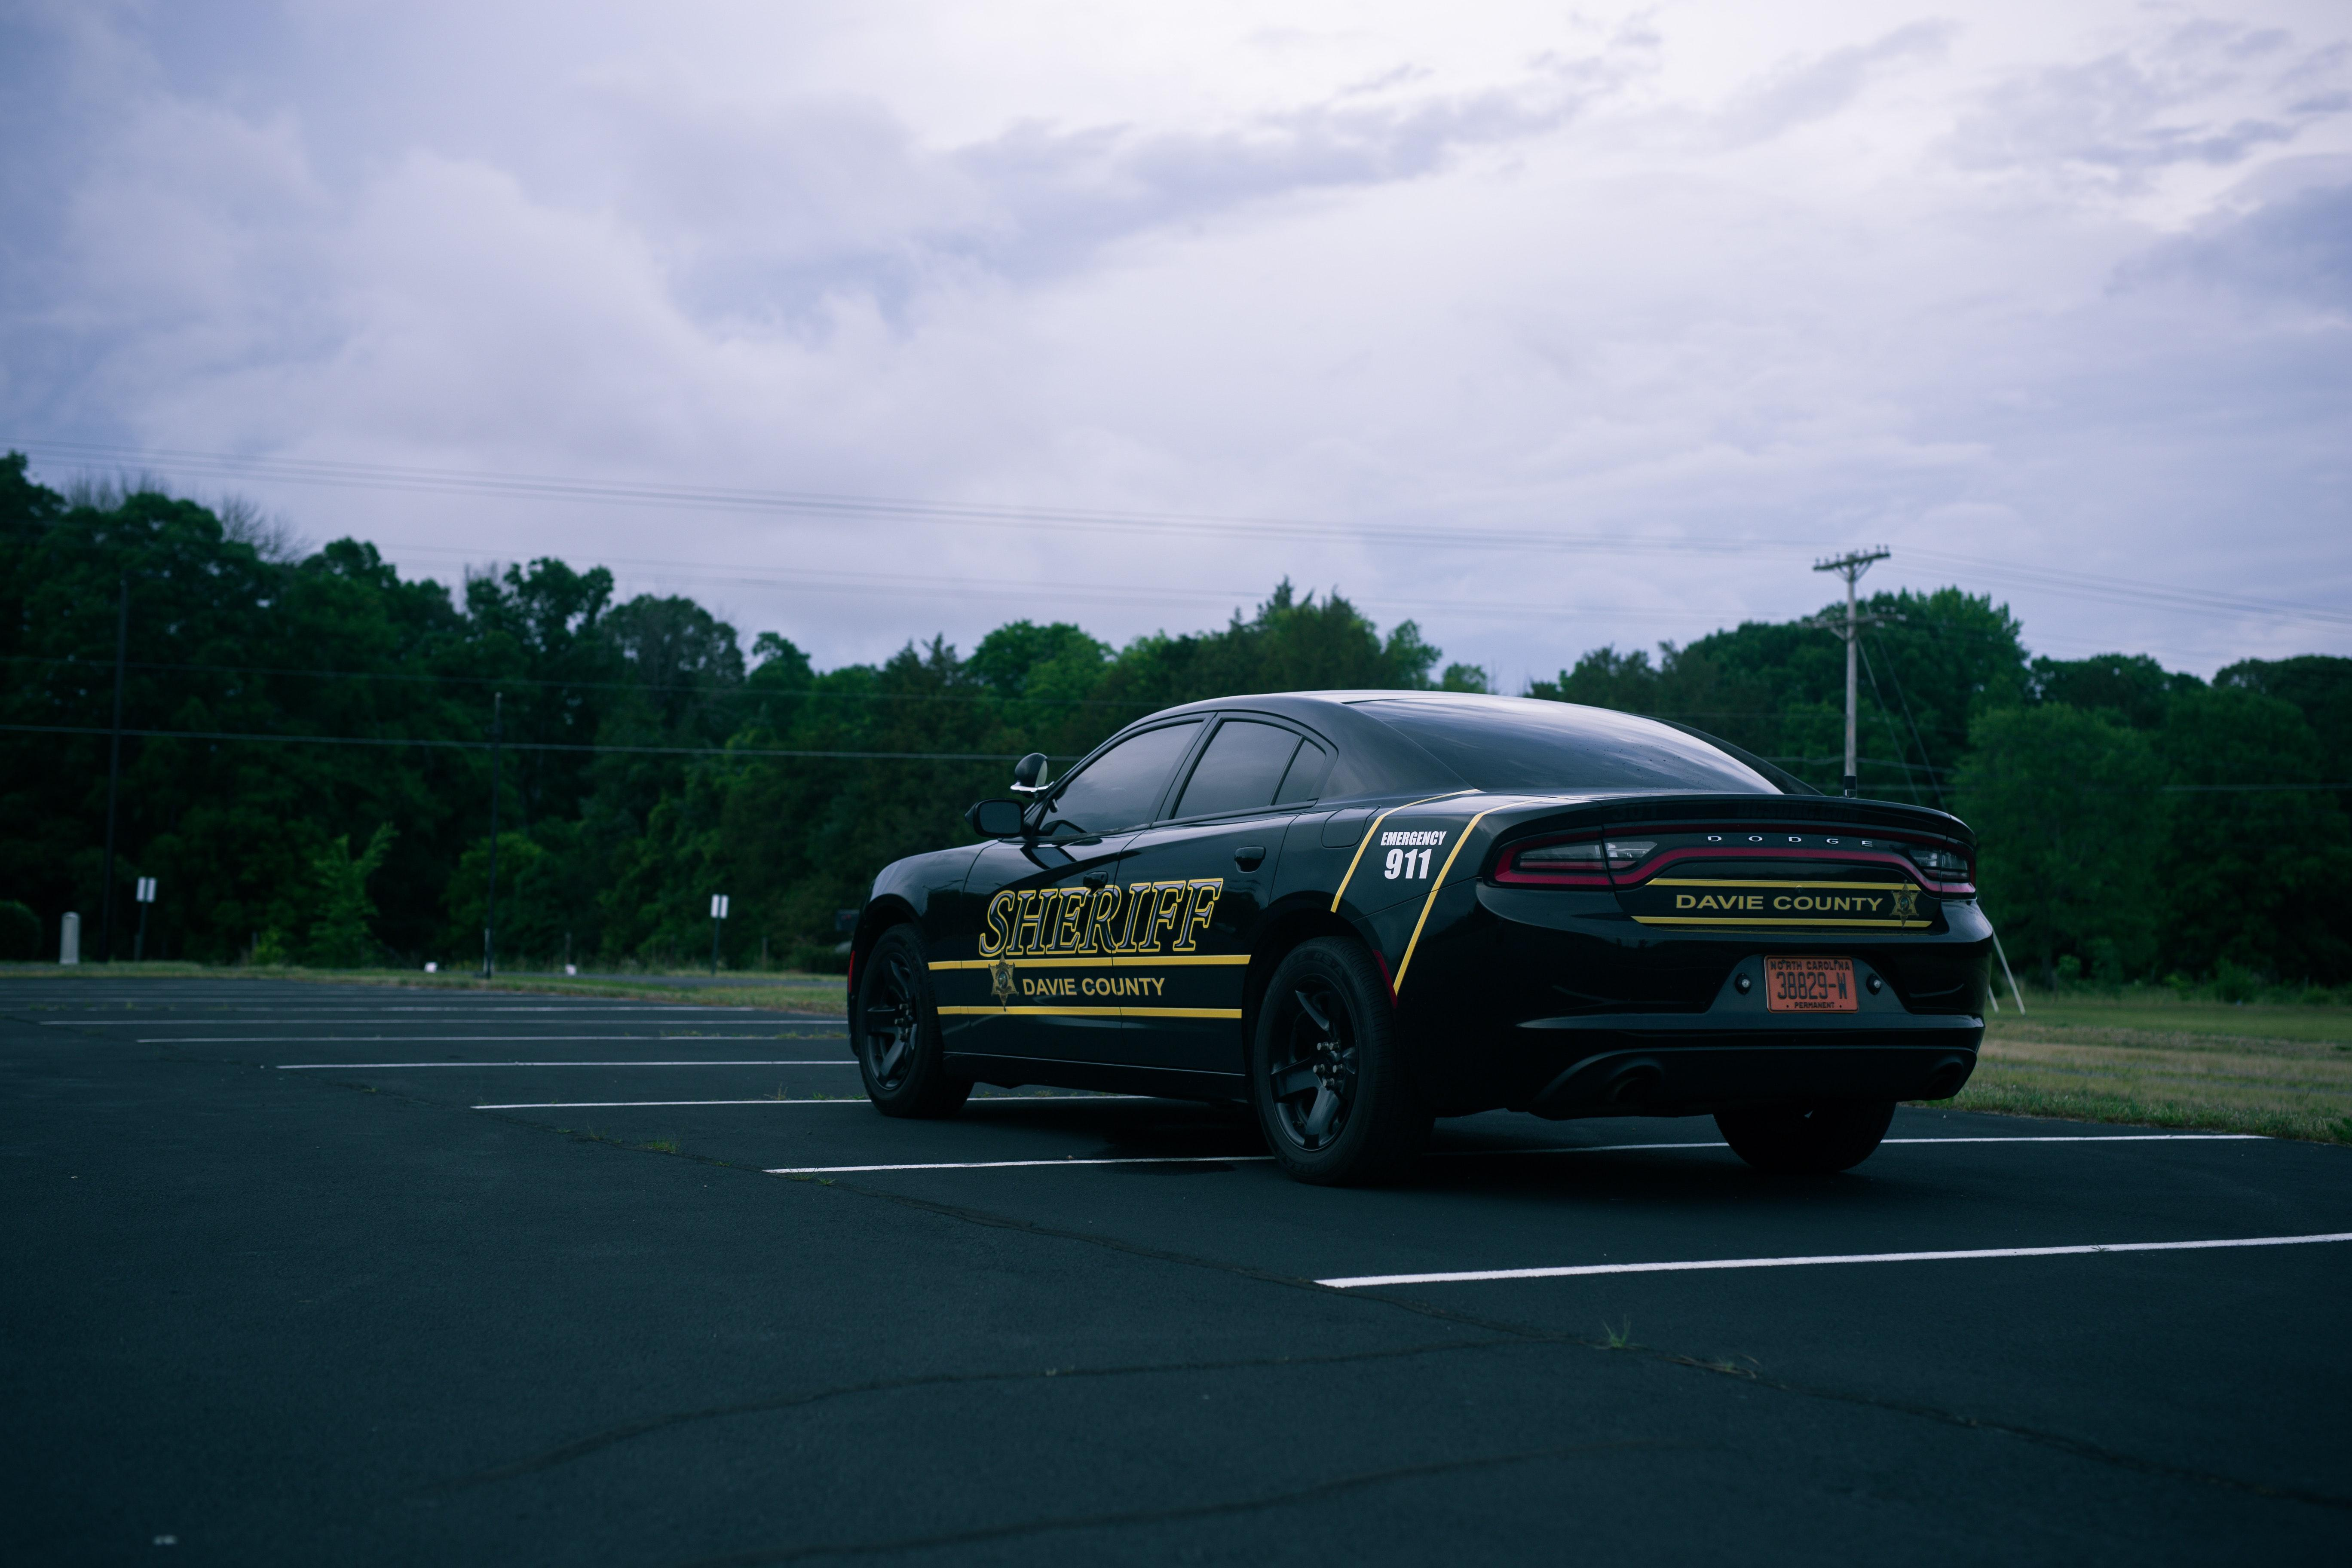dodge: (1690, 828, 1890, 854)
